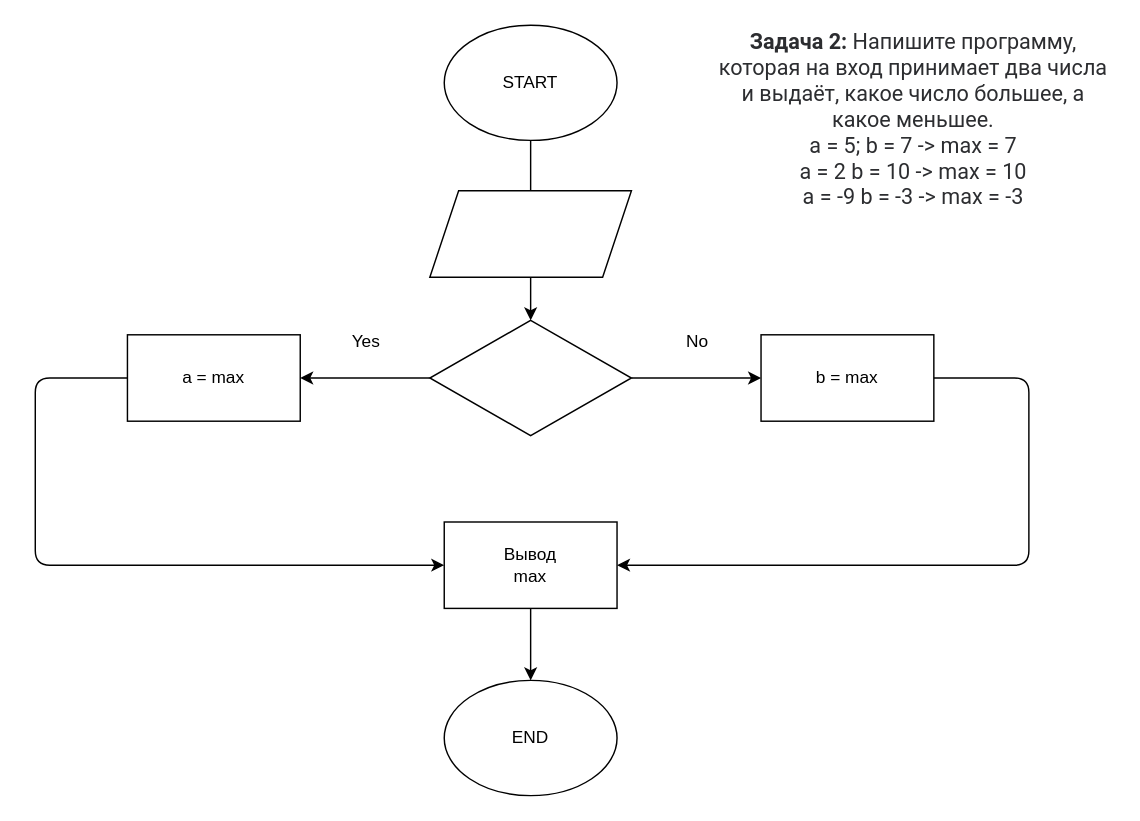
Some shapes in this 1140 by 821 pixel diagram are drawn without their labels. Here are the shapes that lost their labels. From the top down, the centre of each, then its label:
At [529,233]: "a = 5 b = 7 max = 0 min = 0".
At [529,377]: "a > b".
